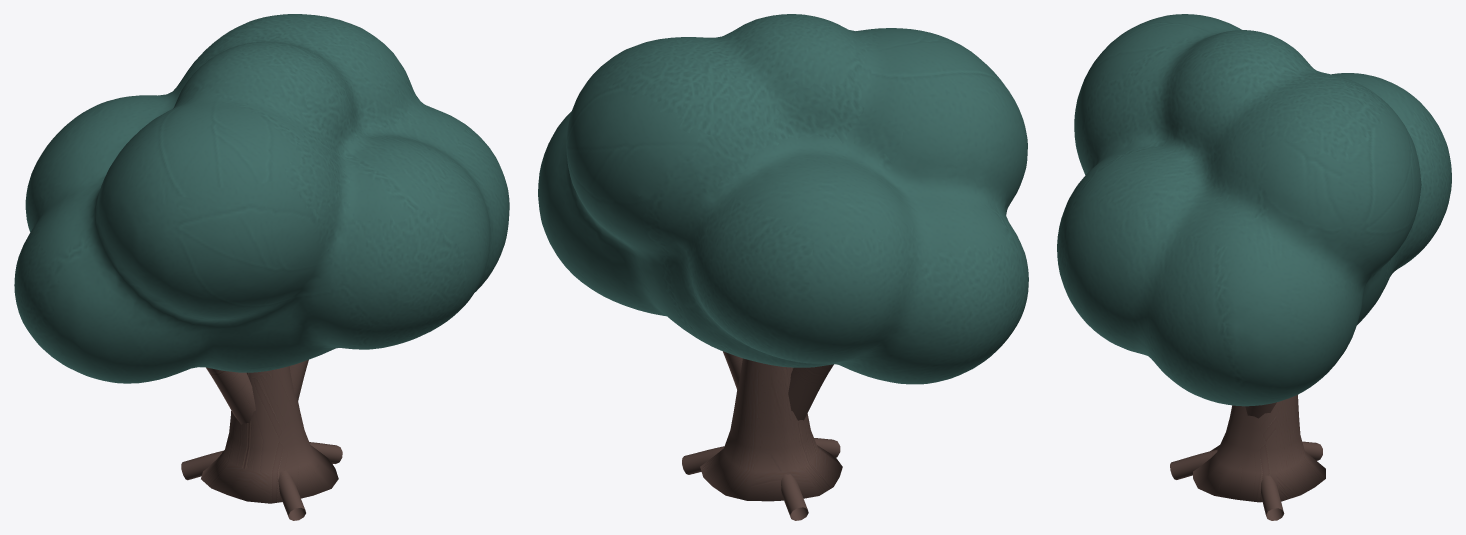
3 views of the same model, side by side, from view 1: azimuth 30°, elevation 25°; view 2: azimuth 150°, elevation 25°; view 3: azimuth 270°, elevation 25° (orthographic). The views are drawn at different scales.
Visible parts, largest first — view 1: Canopy, Trunk; view 2: Canopy, Trunk; view 3: Canopy, Trunk.
Boxes of the visible parts, <box> form: Canopy: <box>14,14,509,383</box>; Trunk: <box>181,359,342,520</box>; Canopy: <box>538,14,1028,384</box>; Trunk: <box>682,351,842,520</box>; Canopy: <box>1057,14,1451,406</box>; Trunk: <box>1170,395,1325,520</box>.
Bounding box in the file's own units: 3.63 × 3.37 × 2.75.
2 materials, 2 textured.
